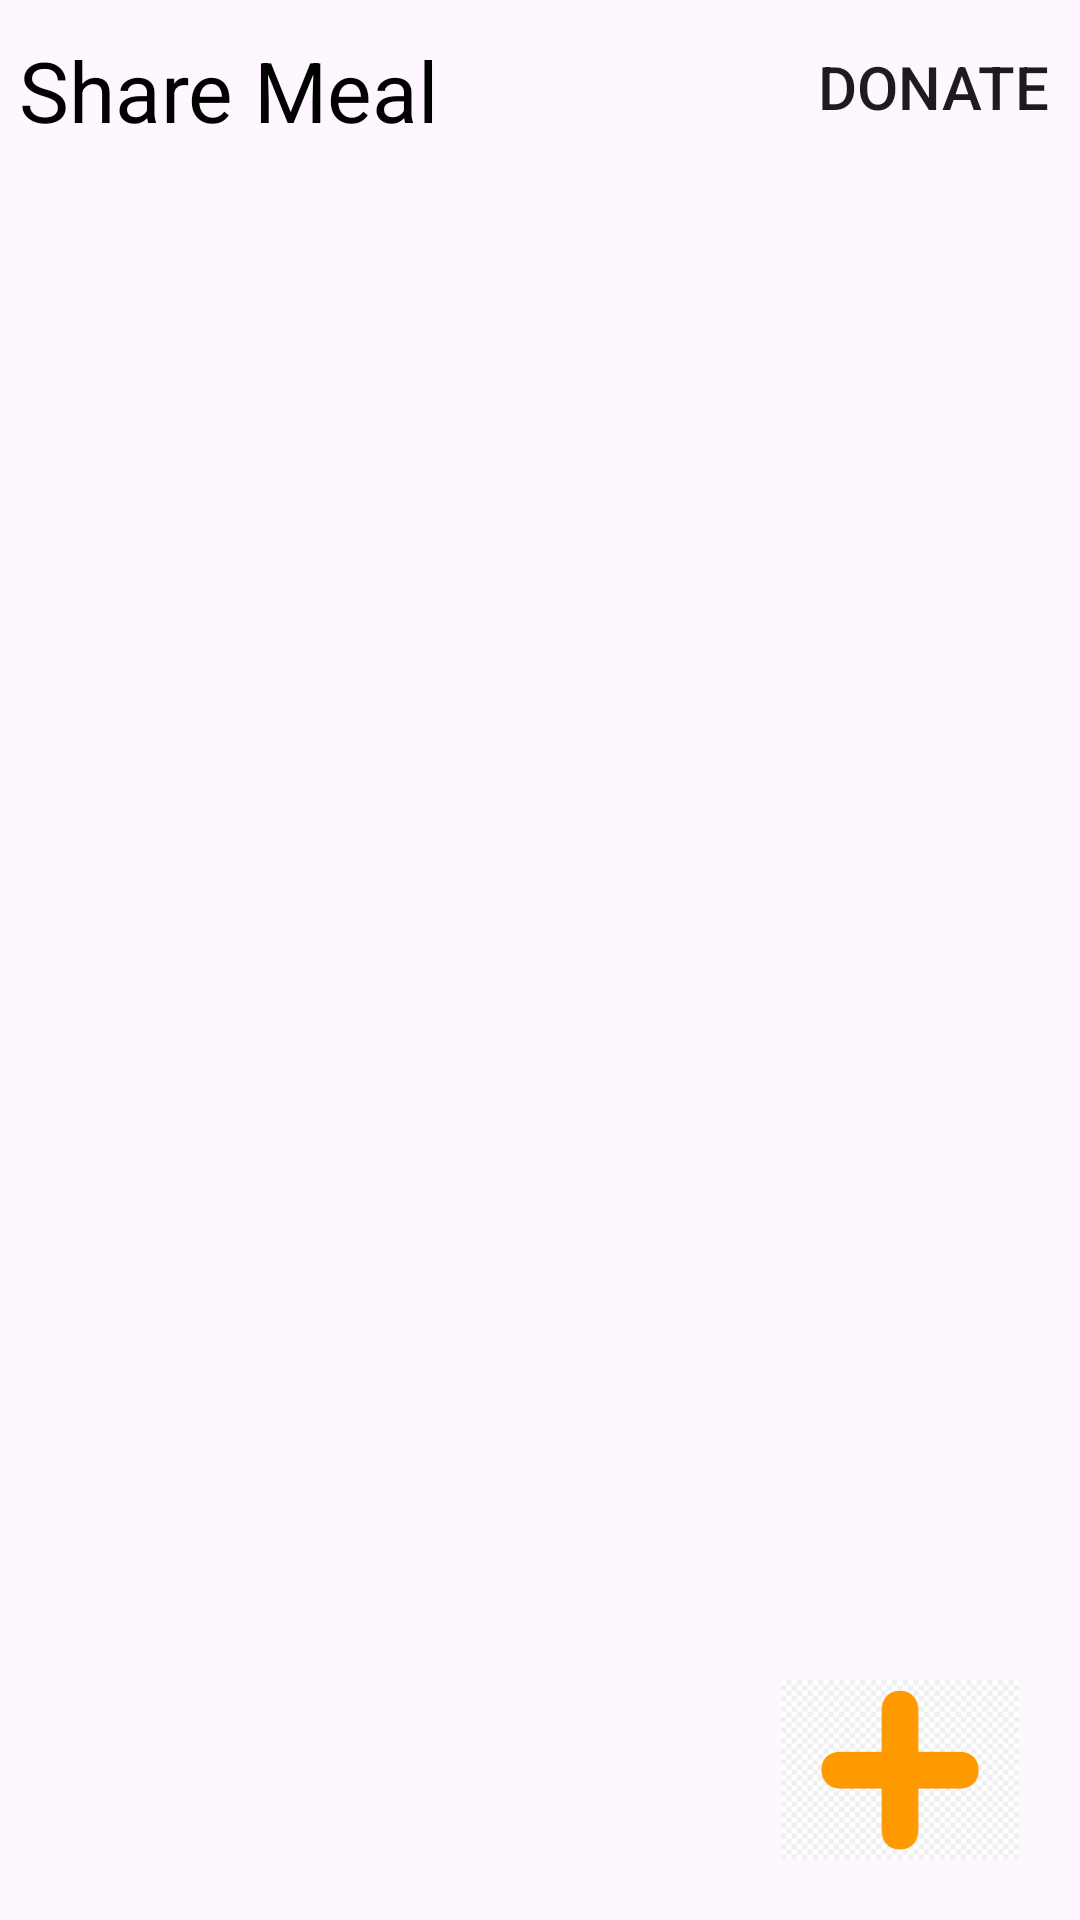

Where icons sit on this 1080x1920 app screen, as (x1, y1, x2, y2):
add: (821, 1690, 979, 1850)
